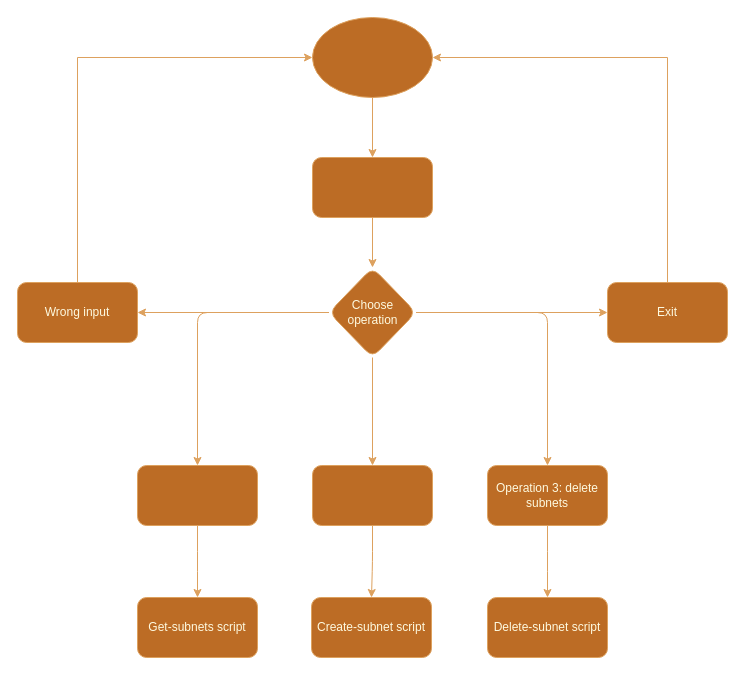
Some shapes in this 745 by 675 pixel diagram are drawn without their labels. The shapes that lost their labels are listed below. From the top down, each one's centre as x and y in pixels, then its label:
At (372,57): "Start".
At (372,187): "Subnet-Script".
At (197,495): "Operation 1: get available subnets".
At (372,495): "Operation 2: create subnets".
